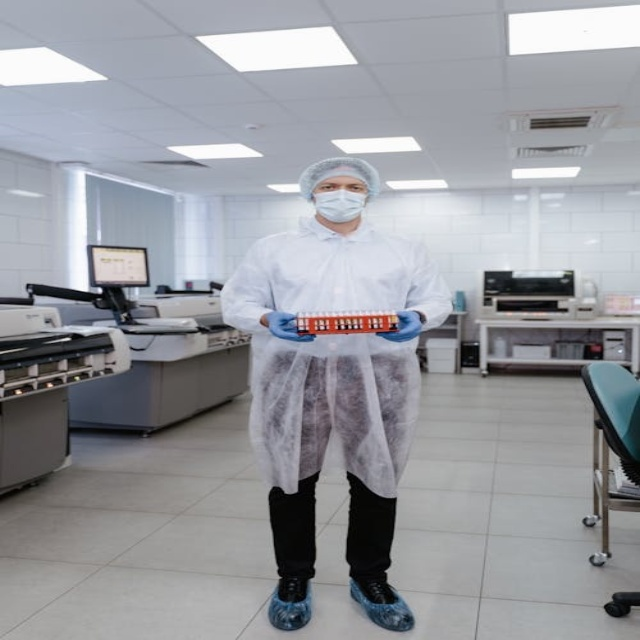Guantes: (377, 311, 424, 343), (265, 312, 313, 342)
Mascara: (312, 189, 368, 223)
Sin_gafas: (315, 184, 369, 194)
